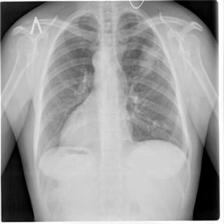tuberculosis: (31, 8, 194, 188)
